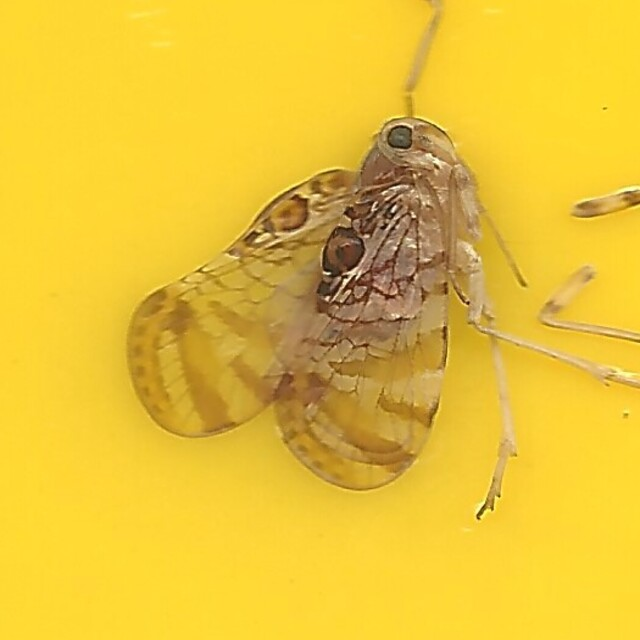Hemiptera: (122, 112, 518, 528)
